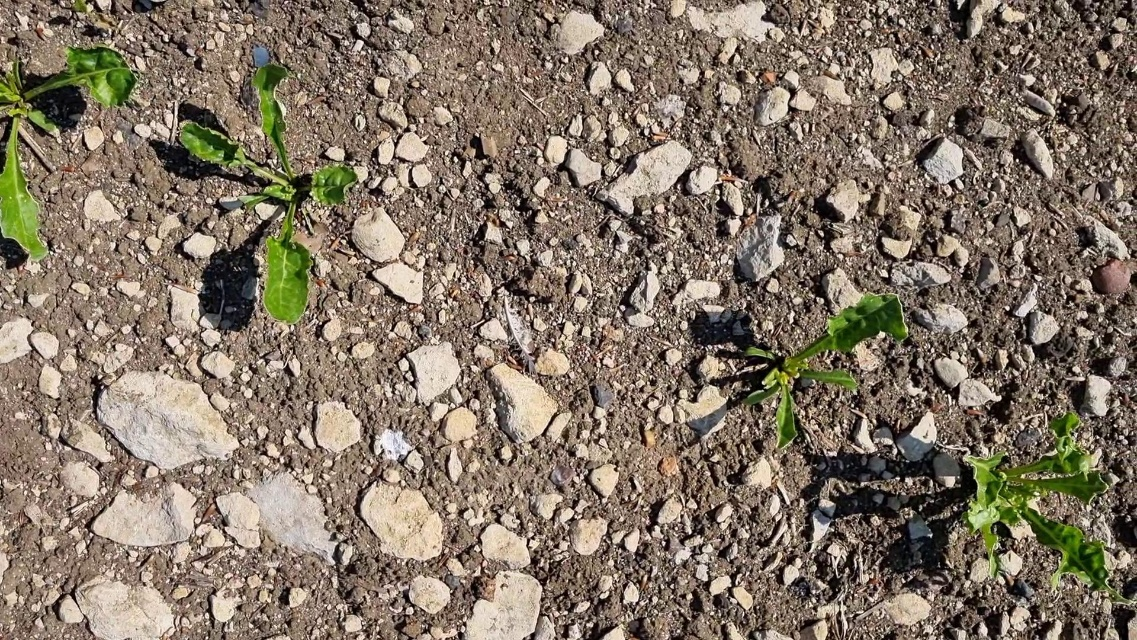crop: (164, 45, 362, 322), (0, 31, 136, 279), (945, 400, 1111, 598), (718, 291, 914, 447)
